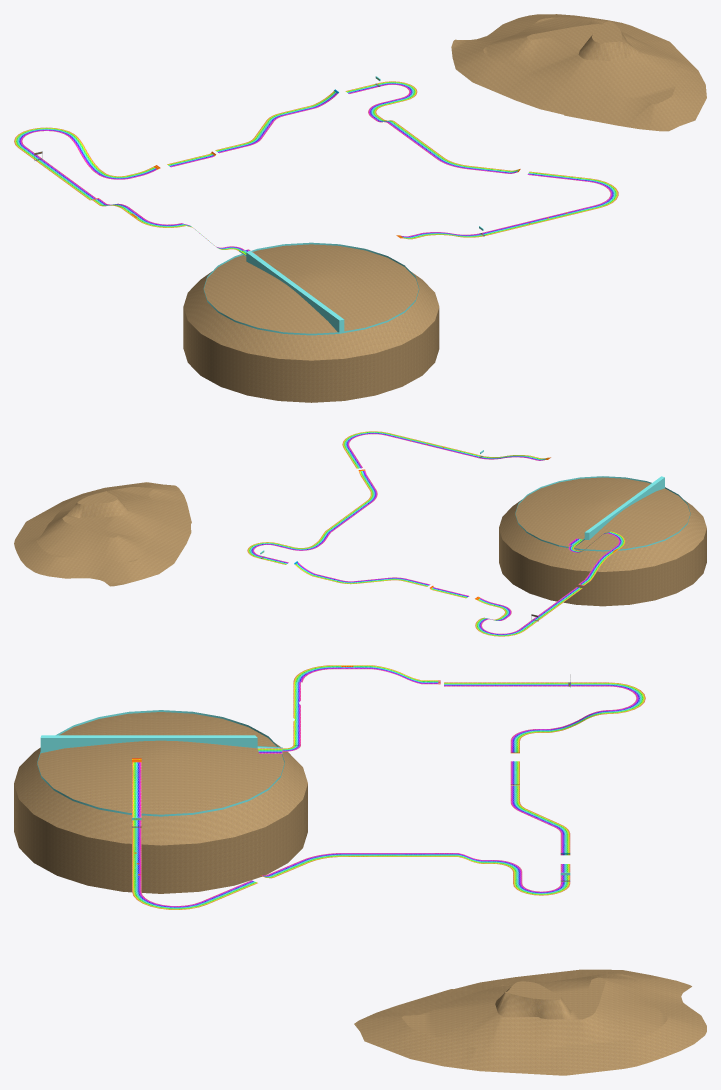
3 views of the same model, one above another, from view 1: azimuth 30°, elevation 25°; view 2: azimuth 150°, elevation 25°; view 3: azimuth 270°, elevation 25° (orthographic). The views are drawn at different scales.
Visible parts, largest first — view 1: GK7_Rainbow_Road_model_v2-SKP--Groundcover_Sand_Smooth.001, GK7_Rainbow_Road_model_v2-SKP--Road.001, GK7_Rainbow_Road_model_v2-SKP--Section_gate.001; view 2: GK7_Rainbow_Road_model_v2-SKP--Groundcover_Sand_Smooth.001, GK7_Rainbow_Road_model_v2-SKP--Road.001, GK7_Rainbow_Road_model_v2-SKP--Section_gate.001; view 3: GK7_Rainbow_Road_model_v2-SKP--Groundcover_Sand_Smooth.001, GK7_Rainbow_Road_model_v2-SKP--Road.001, GK7_Rainbow_Road_model_v2-SKP--Section_gate.001.
Part boxes in pixels (box(x1,y1,x2,y2)): GK7_Rainbow_Road_model_v2-SKP--Groundcover_Sand_Smooth.001: box(183, 14, 706, 402); GK7_Rainbow_Road_model_v2-SKP--Road.001: box(14, 81, 618, 256); GK7_Rainbow_Road_model_v2-SKP--Section_gate.001: box(203, 76, 483, 335); GK7_Rainbow_Road_model_v2-SKP--Groundcover_Sand_Smooth.001: box(14, 477, 706, 606); GK7_Rainbow_Road_model_v2-SKP--Road.001: box(247, 431, 625, 636); GK7_Rainbow_Road_model_v2-SKP--Section_gate.001: box(260, 450, 690, 554); GK7_Rainbow_Road_model_v2-SKP--Groundcover_Sand_Smooth.001: box(14, 712, 706, 1075); GK7_Rainbow_Road_model_v2-SKP--Road.001: box(132, 665, 645, 909); GK7_Rainbow_Road_model_v2-SKP--Section_gate.001: box(37, 710, 570, 875).
Size of the model in its own units: 245001 by 36759 by 198505.
Materials: 10 (10 with a texture image).
